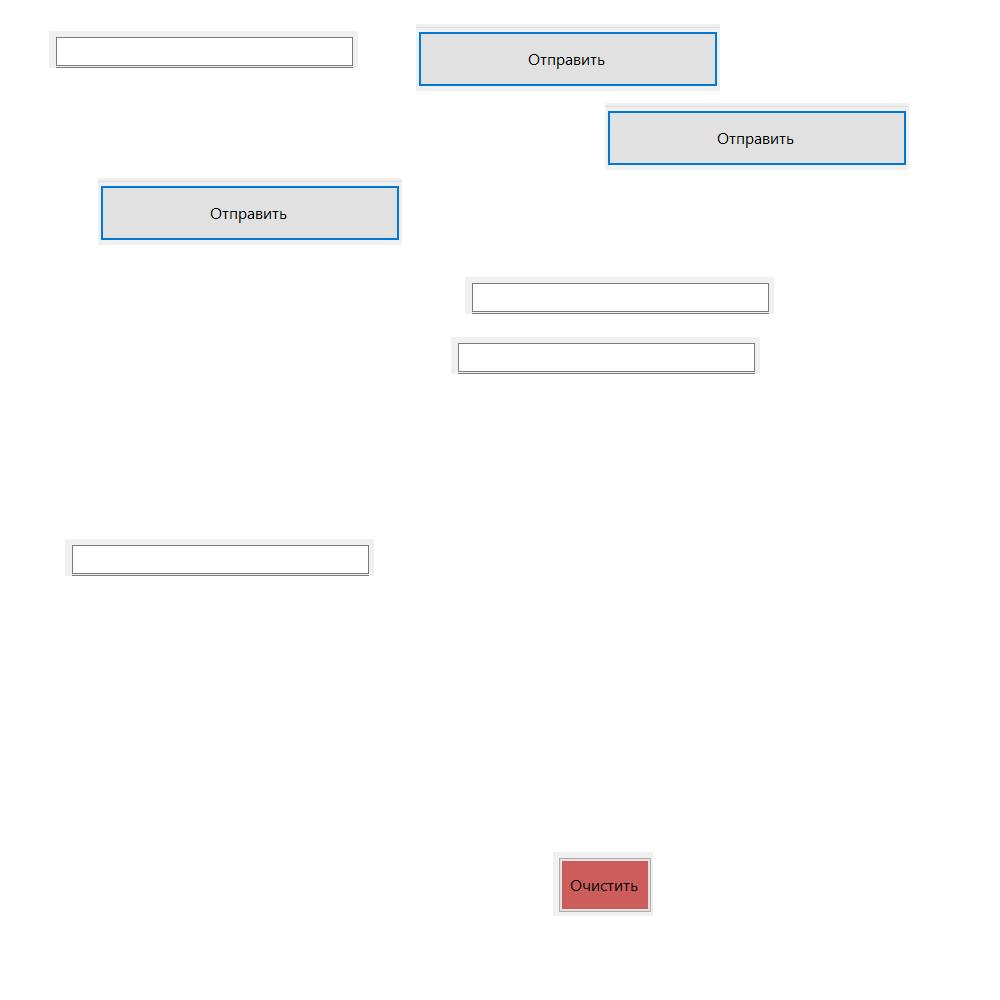Button: (416, 24, 720, 91), (98, 178, 402, 245), (605, 103, 909, 170), (553, 852, 653, 916)
EditText-: (451, 337, 760, 374), (465, 277, 774, 314), (49, 31, 358, 68), (65, 539, 374, 576)
